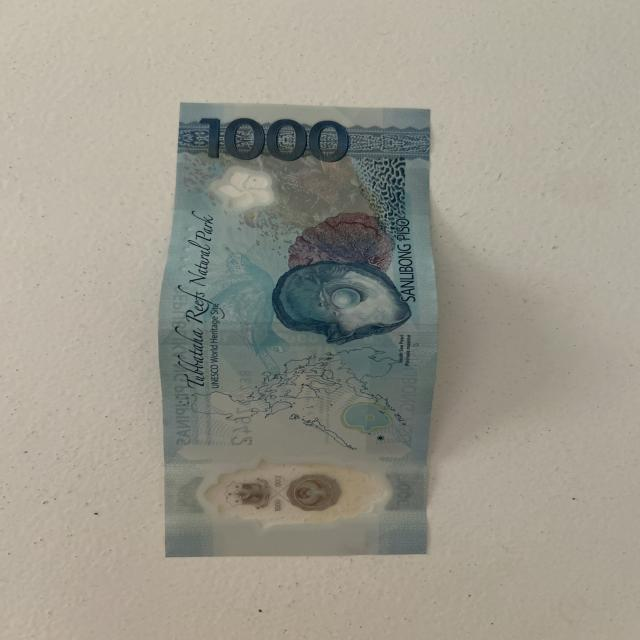clear_window: (159, 466, 418, 522)
sampaguita: (204, 157, 277, 224)
security_thread: (164, 325, 434, 349)
value: (192, 113, 363, 169)
value_watermark: (385, 467, 419, 518)
